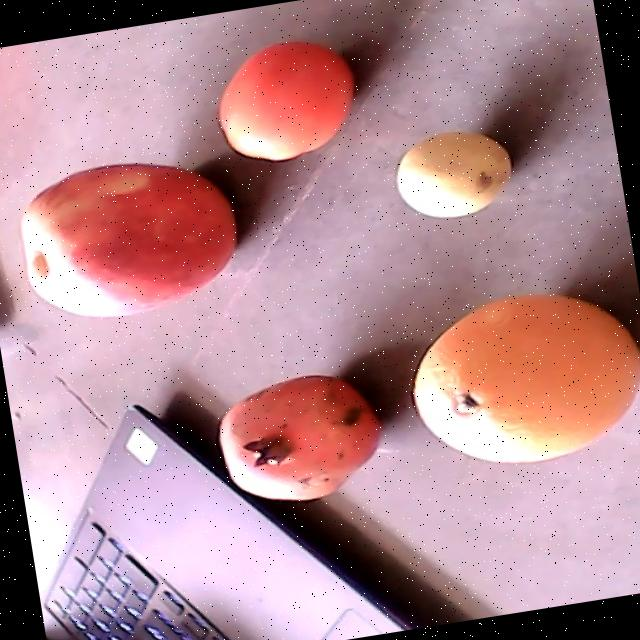apple: (20, 164, 239, 316)
lemon: (388, 123, 514, 225)
orange: (399, 274, 640, 486)
pomegranate: (219, 375, 378, 497)
tomato: (217, 39, 356, 158)
